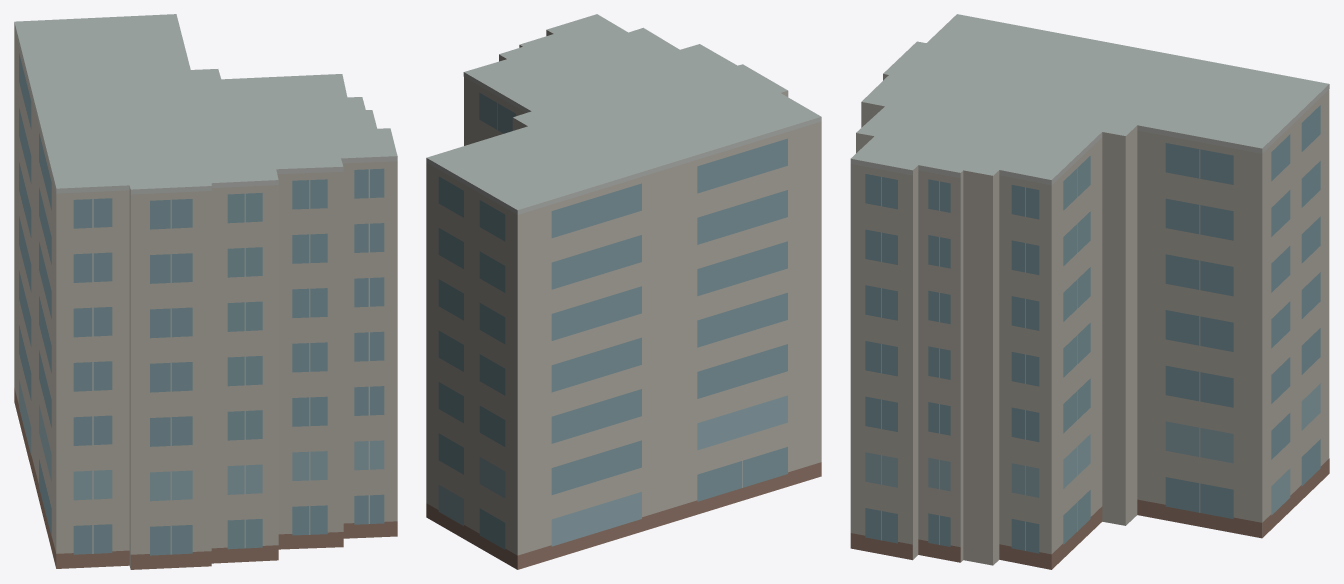
Rendered from survey-upis-33004460.glb.
3 renders of one model, left to right at view 1: azimuth 30°, elevation 25°; view 2: azimuth 150°, elevation 25°; view 3: azimuth 270°, elevation 25°, orthographic. The views are drawn at different scales.
Visible parts, largest first — view 1: survey-upis-33004460.tmp; view 2: survey-upis-33004460.tmp; view 3: survey-upis-33004460.tmp.
Part boxes in pixels (<box>): survey-upis-33004460.tmp: <box>14,14,397,569</box>; survey-upis-33004460.tmp: <box>426,14,821,569</box>; survey-upis-33004460.tmp: <box>850,14,1329,569</box>.
Bounding box in the file's own units: 17.01 × 18.6 × 20.72.
